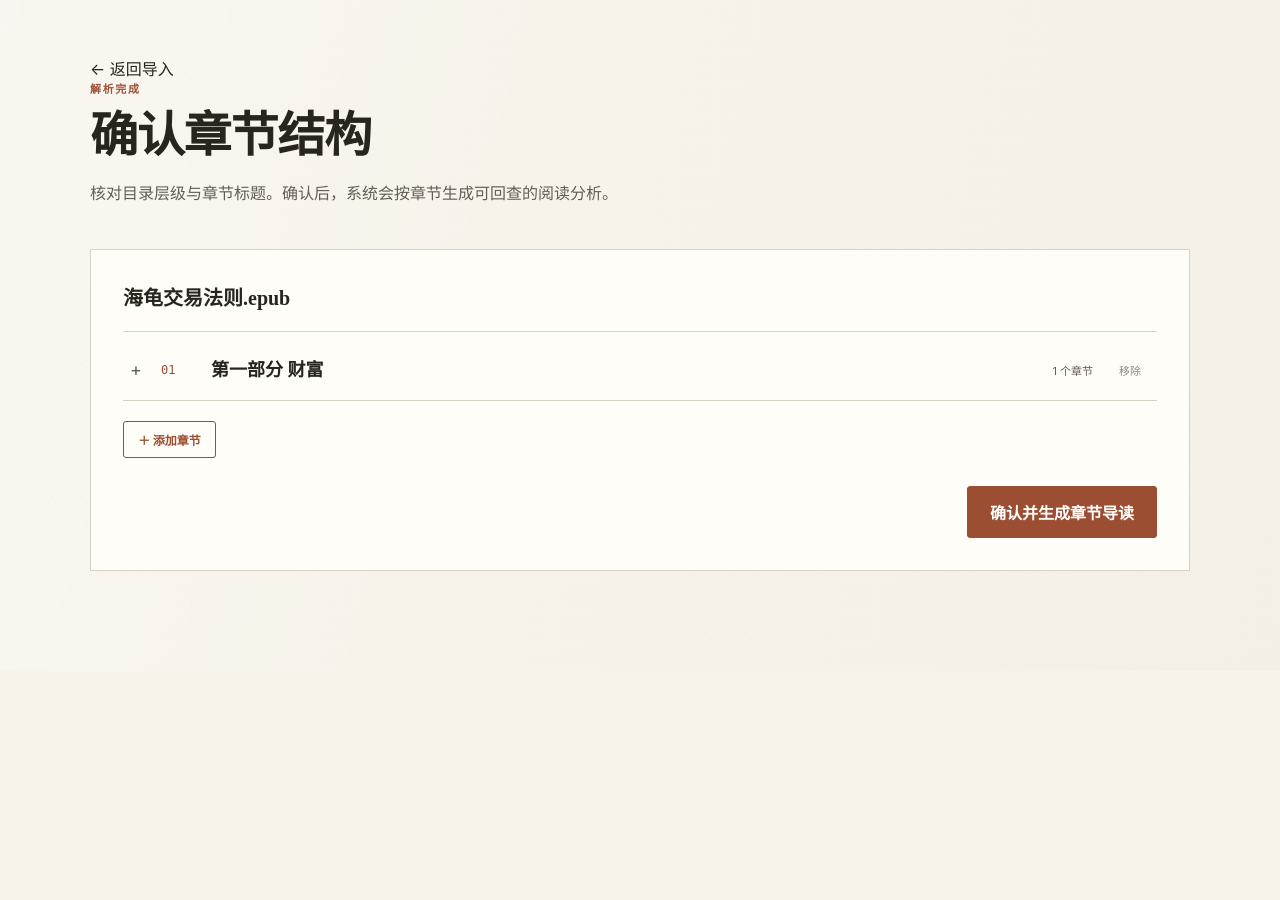
Test: ChapterEditor hierarchy › keeps every published outline level collapsible
The width and height of the screenshot is (1280, 900).
Expected: the field showing "第一部分 财富" is shown, left=209, top=350, right=1001, bottom=390
Expected: the field showing "认识财富创造的原理" is not shown
Click the button named "展开「第一部分 财富」的章节" at (136, 370), box left=123, top=357, right=149, bottom=383
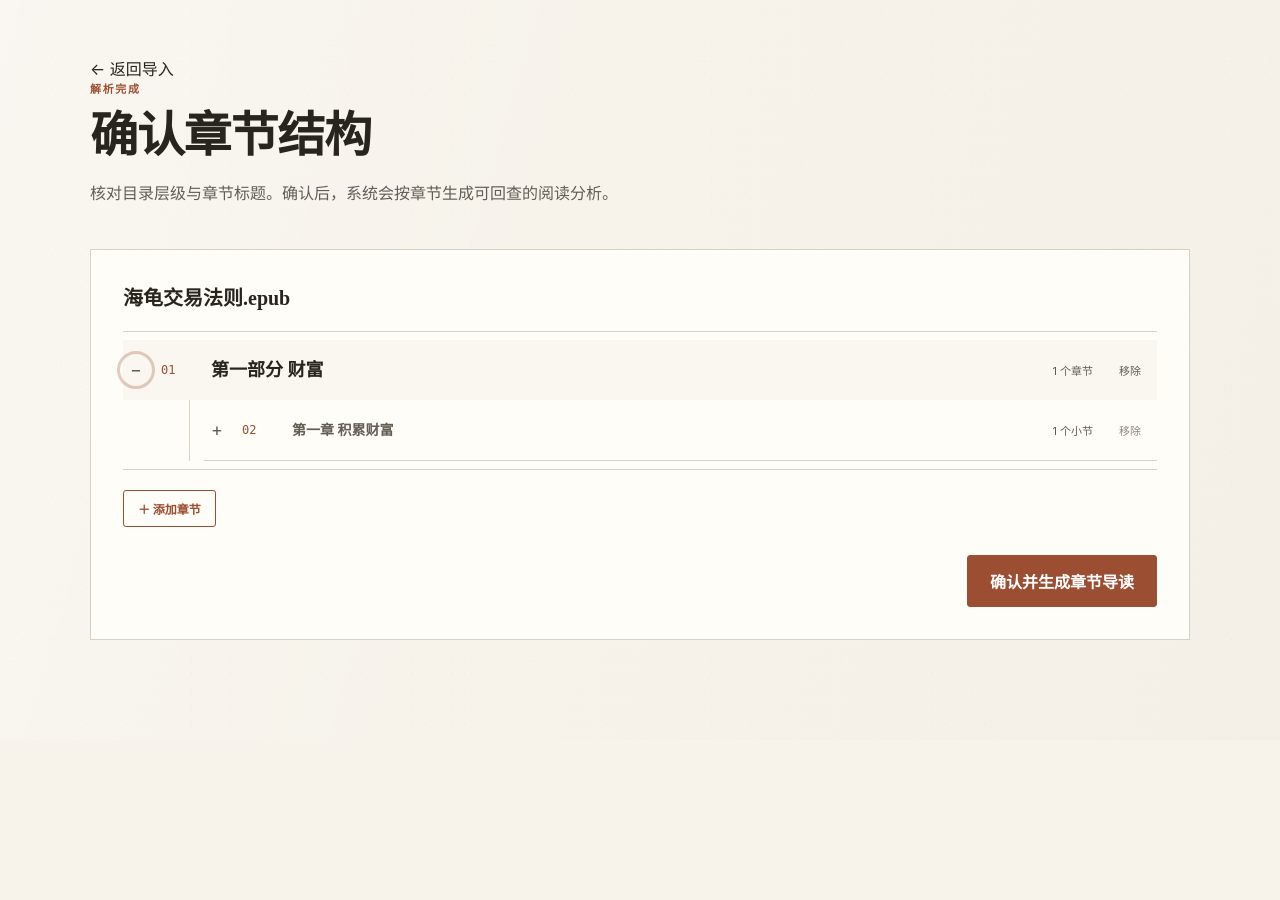
Click the button named "展开「第一章 积累财富」的小节" at (217, 430), box left=204, top=417, right=230, bottom=443
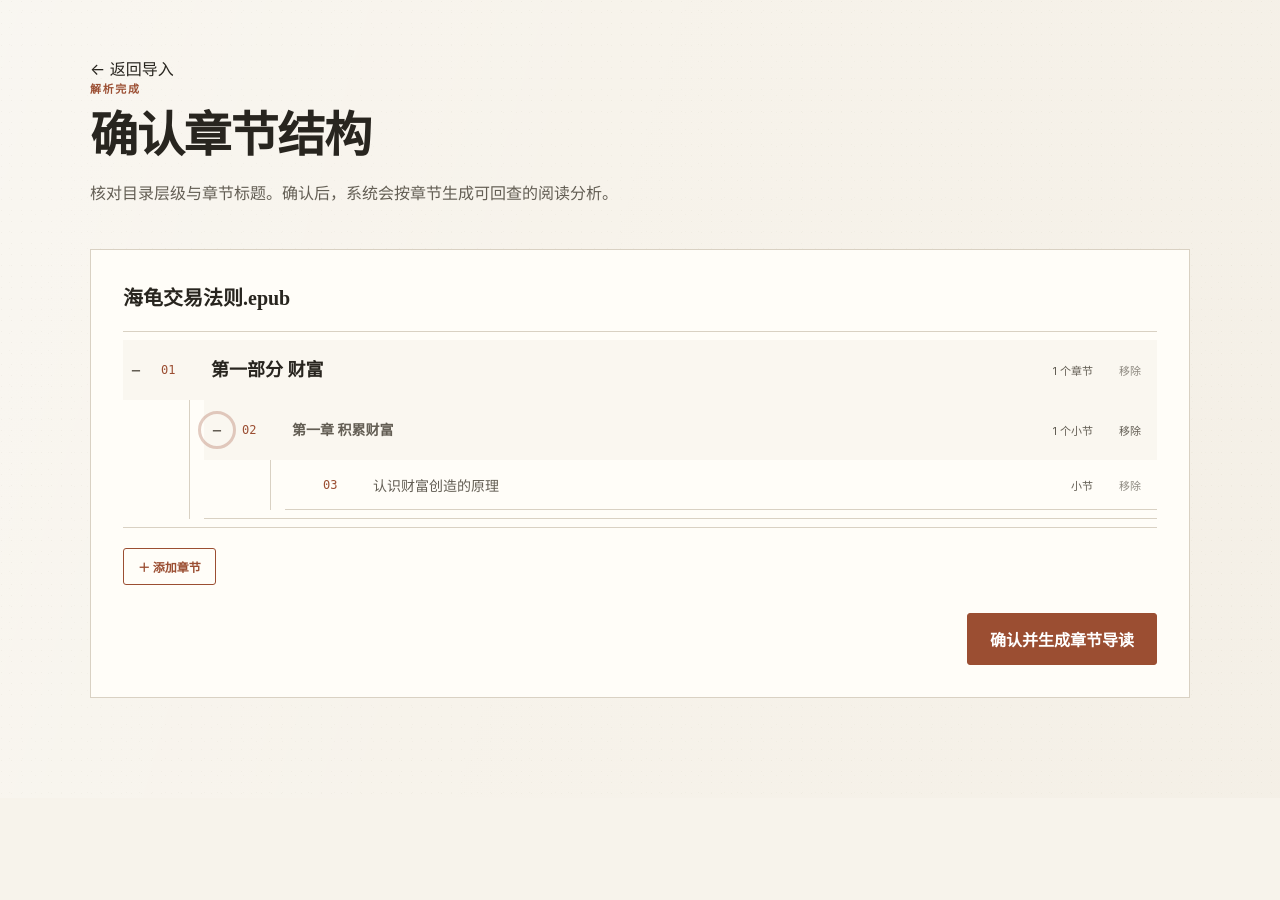
Expected: the text "1 个小节" is shown, left=1052, top=424, right=1093, bottom=438
Expected: the field showing "认识财富创造的原理" next to "03" is shown, left=371, top=468, right=1001, bottom=500
